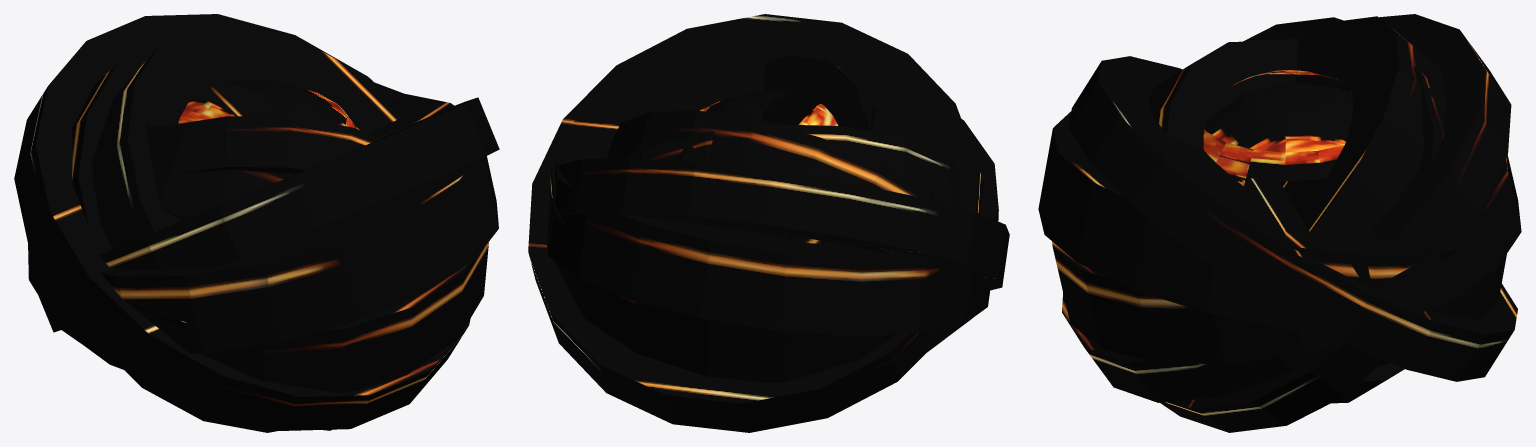
The model's file is frame_026.obj.
3 renders of one model, left to right at view 1: azimuth 30°, elevation 25°; view 2: azimuth 150°, elevation 25°; view 3: azimuth 270°, elevation 25°, orthographic. The views are drawn at different scales.
Visible parts, largest first — view 1: cylinder, sphere; view 2: cylinder, sphere; view 3: cylinder, sphere.
Boxes of the visible parts, x1,y1,x2,y2 form: cylinder: (14, 14, 499, 432); sphere: (178, 78, 361, 130); cylinder: (528, 14, 1009, 432); sphere: (699, 90, 838, 125); cylinder: (1038, 14, 1521, 432); sphere: (1203, 70, 1353, 186).
Bounding box in the file's own units: 1.12 × 0.8038 × 1.05.
Materials: 5 (5 with a texture image).
